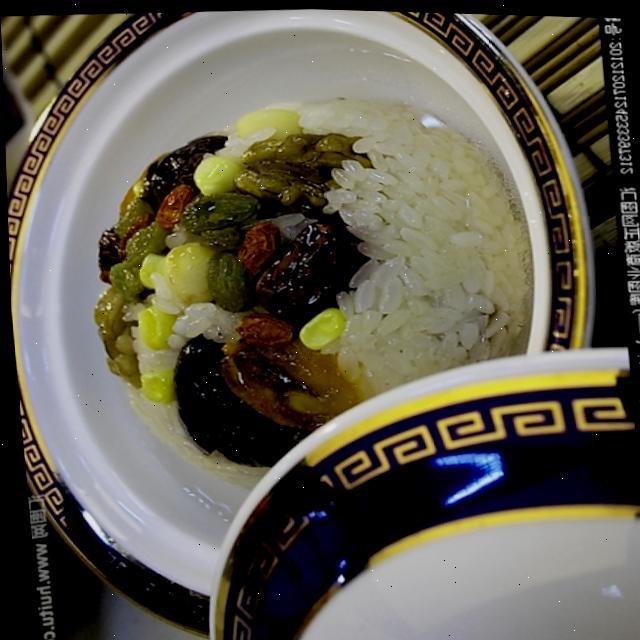米饭主食: (34, 55, 553, 539)
